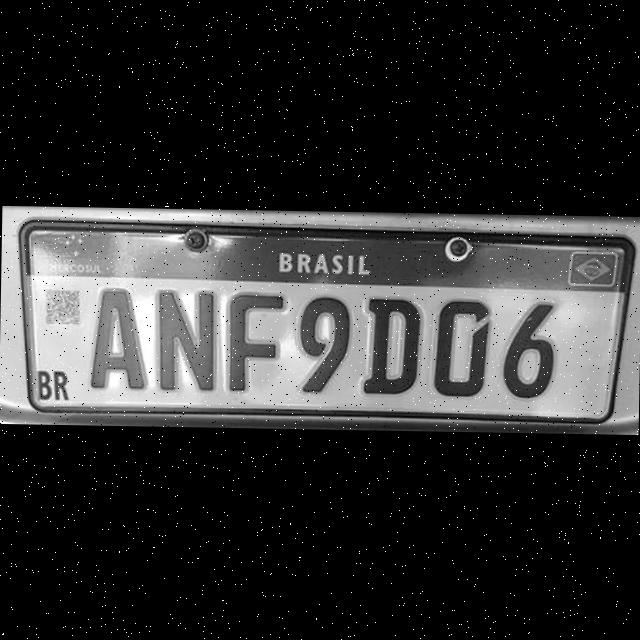Caractere: (89, 284, 152, 394), (154, 285, 217, 394), (359, 294, 424, 396), (223, 289, 284, 395), (432, 295, 491, 398), (296, 292, 352, 396), (501, 298, 556, 400)
Placa: (12, 217, 636, 428)
